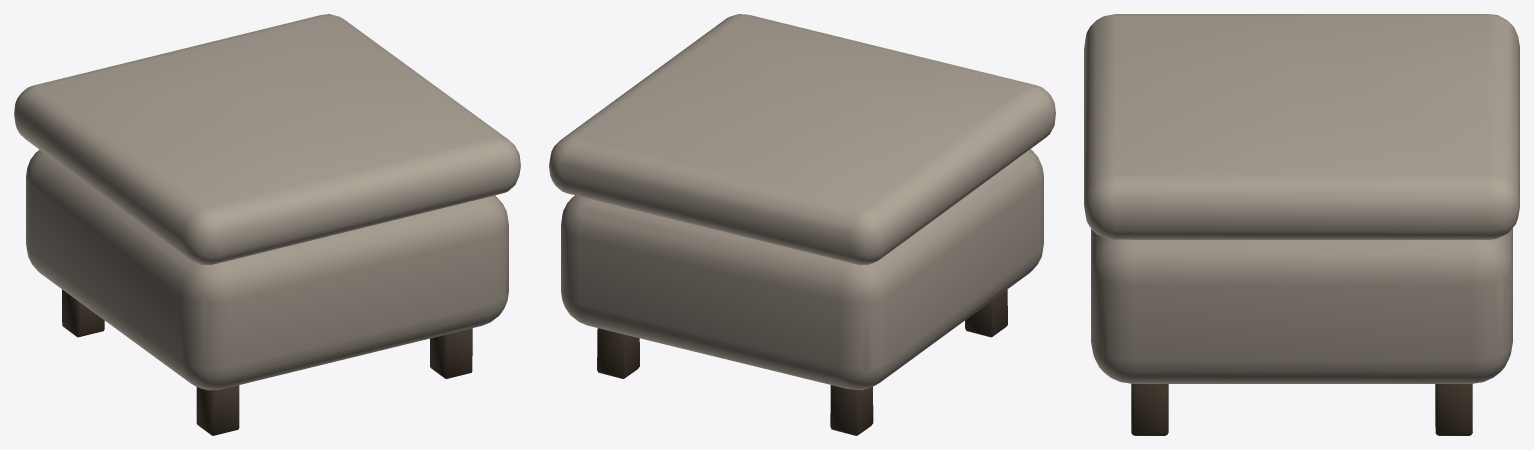
The model's file is ottoman.glb.
3 views of the same model, side by side, from view 1: azimuth 30°, elevation 25°; view 2: azimuth 150°, elevation 25°; view 3: azimuth 270°, elevation 25° (orthographic). The views are drawn at different scales.
Parts seen in each view (by area): view 1: EQ_Mobile_ottoman_Upholstery, EQ_Mobile_ottoman_OakStructure; view 2: EQ_Mobile_ottoman_Upholstery, EQ_Mobile_ottoman_OakStructure; view 3: EQ_Mobile_ottoman_Upholstery, EQ_Mobile_ottoman_OakStructure.
Boxes of the visible parts, x1,y1,x2,y2 form: EQ_Mobile_ottoman_Upholstery: (14,14,520,390); EQ_Mobile_ottoman_OakStructure: (62,289,472,435); EQ_Mobile_ottoman_Upholstery: (549,14,1055,390); EQ_Mobile_ottoman_OakStructure: (597,289,1007,435); EQ_Mobile_ottoman_Upholstery: (1084,14,1519,383); EQ_Mobile_ottoman_OakStructure: (1131,383,1472,435).
Size of the model in its own units: 0.6306 by 0.4375 by 0.6306.
